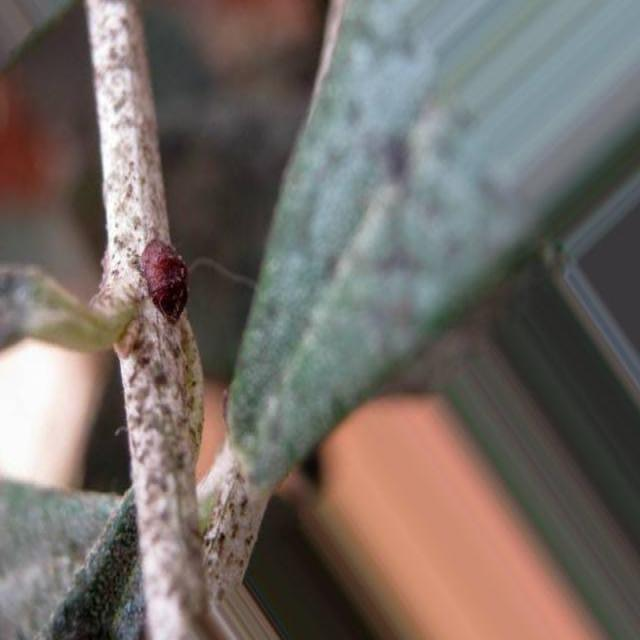Black Scale: (141, 237, 188, 321)
